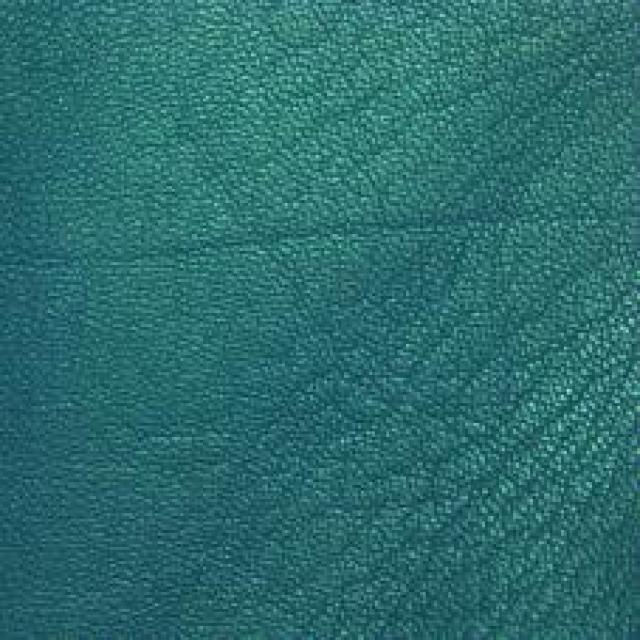Growth Marks: (55, 210, 340, 282), (372, 190, 588, 271)
